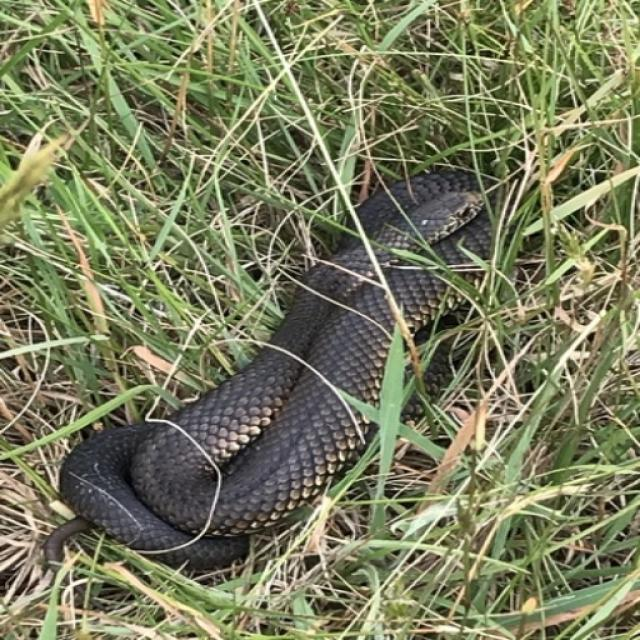snake: (67, 175, 535, 546)
